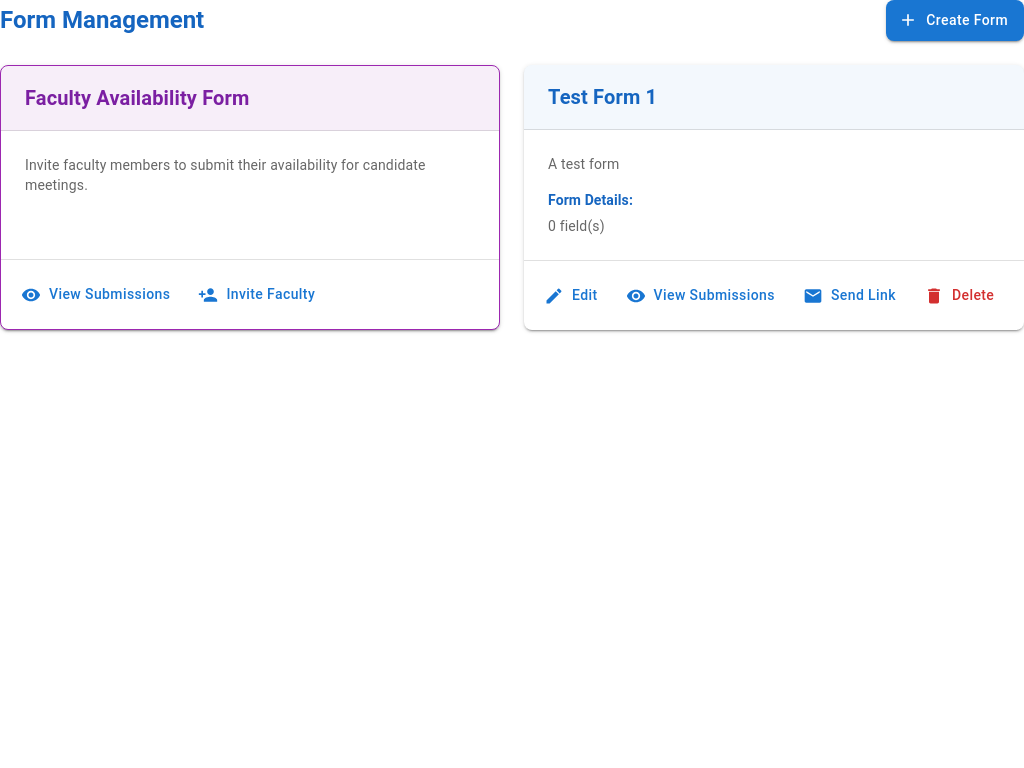
Test case: FormManagement › opens Create Form dialog when Create Form button is clicked
Click the button "Create Form" at [955, 20], box [886,0,1023,40]
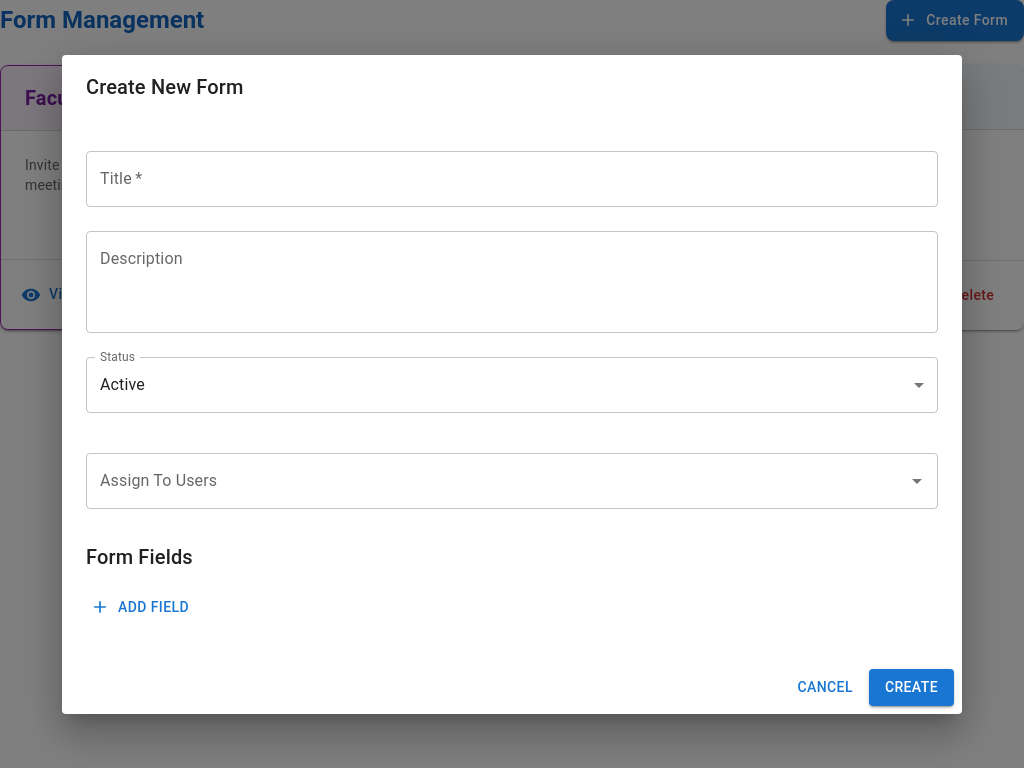
Result: the heading "Create New Form" is shown at [86,74,244,98]
